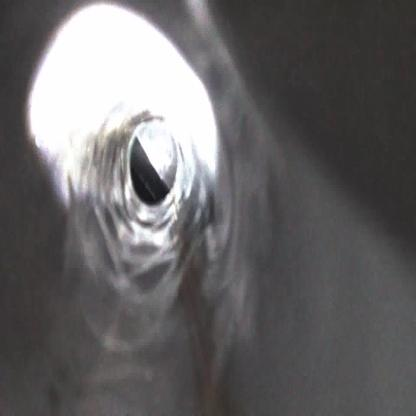Crack: (79, 106, 223, 317)
